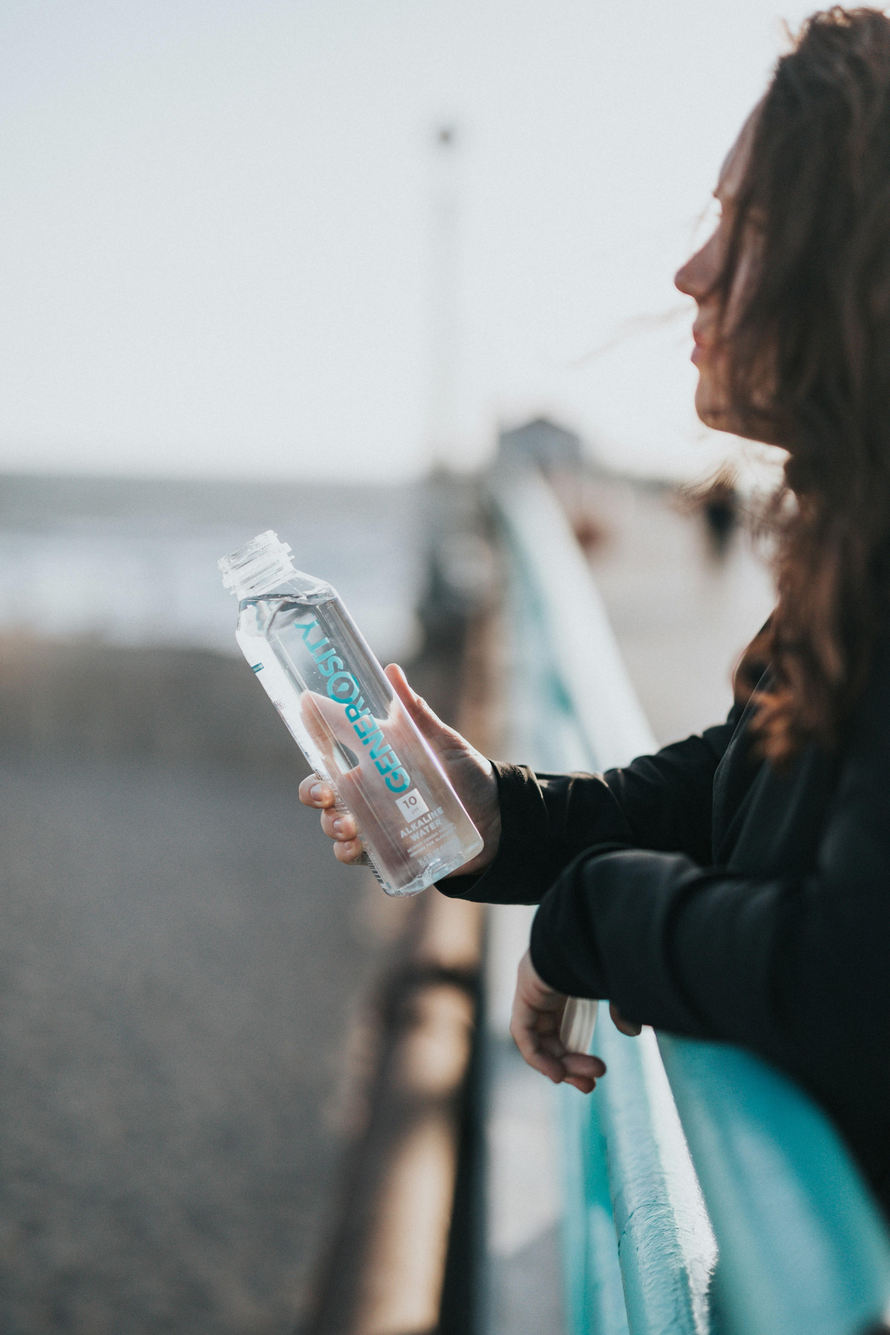Bottle-Detection: (157, 489, 538, 931)
